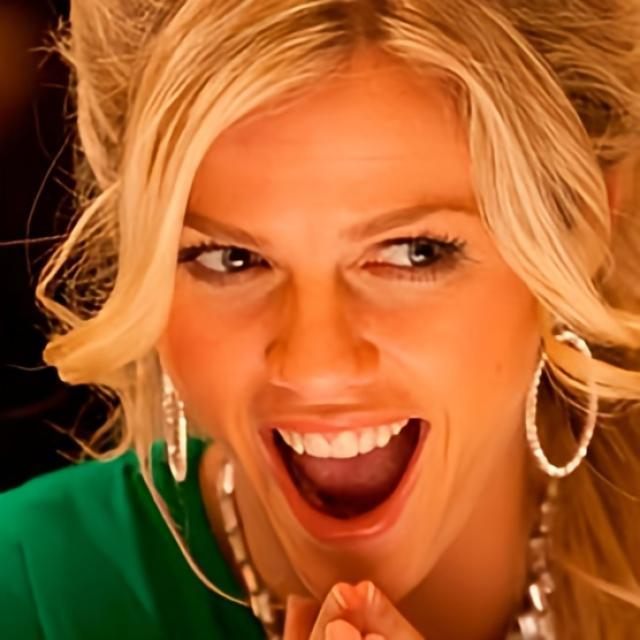happy: (157, 59, 538, 590)
